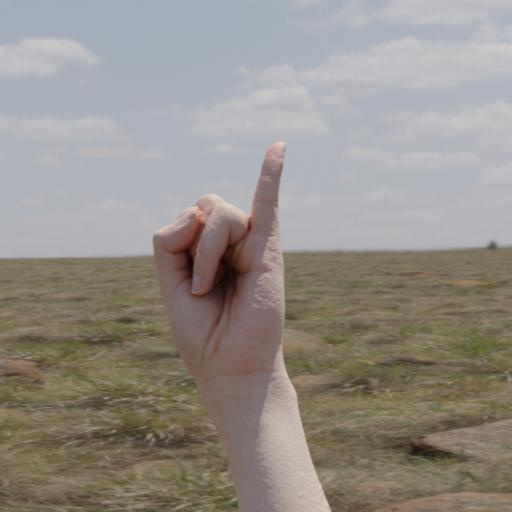I: (127, 127, 349, 406)
